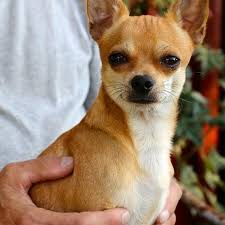Bulldog: (43, 1, 225, 225)
